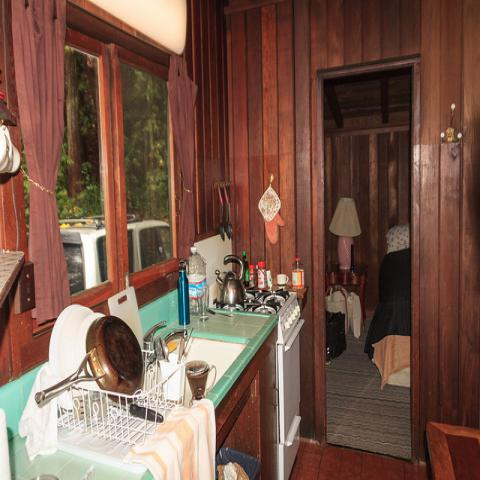car: (61, 220, 168, 293)
truck: (61, 216, 174, 303)
